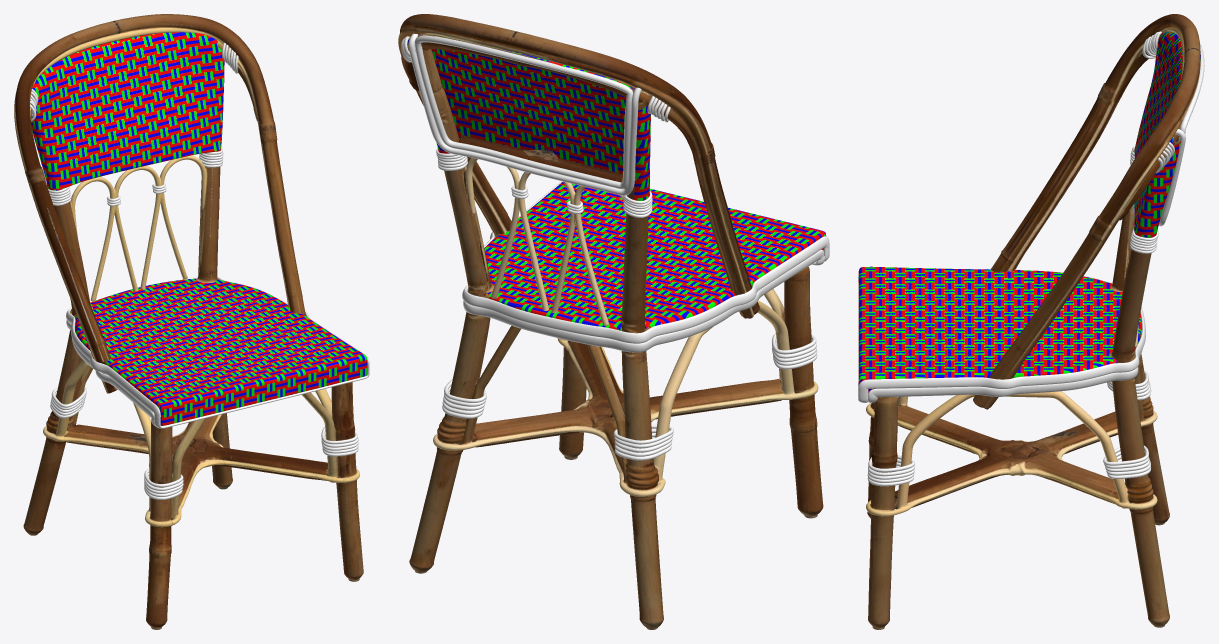
Rendered from bistrot.glb.
The picture shows the model from 3 angles, left to right: view 1: azimuth 30°, elevation 25°; view 2: azimuth 150°, elevation 25°; view 3: azimuth 270°, elevation 25°; orthographic projection. The views are drawn at different scales.
Parts seen in each view (by area): view 1: mesh_tressage, mesh_structure, mesh_laniere; view 2: mesh_structure, mesh_tressage, mesh_laniere; view 3: mesh_structure, mesh_tressage, mesh_laniere.
Boxes of the visible parts, x1=… form: mesh_tressage: x1=31, y1=32, x2=367, y2=425; mesh_structure: x1=14, y1=14, x2=363, y2=629; mesh_laniere: x1=30, y1=42, x2=369, y2=499; mesh_structure: x1=398, y1=14, x2=823, y2=629; mesh_tressage: x1=407, y1=34, x2=825, y2=330; mesh_laniere: x1=401, y1=33, x2=829, y2=460; mesh_structure: x1=866, y1=14, x2=1200, y2=629; mesh_tressage: x1=858, y1=31, x2=1200, y2=392; mesh_laniere: x1=858, y1=31, x2=1204, y2=486.
Bounding box in the file's own units: 0.4826 × 0.9002 × 0.5359.
Materials: 3 (2 with a texture image).
